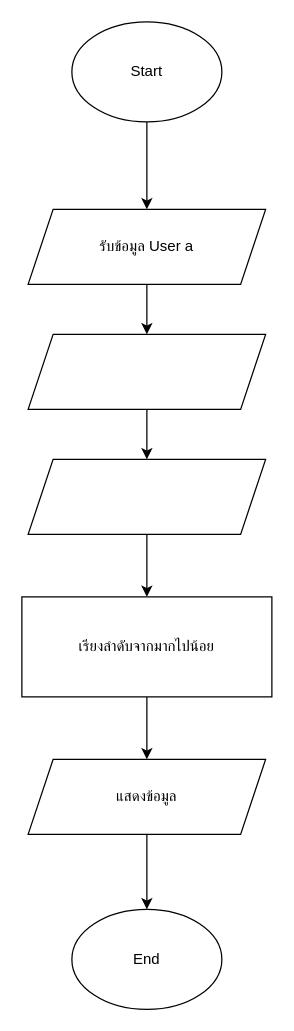
The diagram is 294 pixels wide and 1031 high, and some of its shapes have lost their labels. The shapes that lost their labels are listed below. From the top down, each one's centre as x and y in pixels, then its label:
(146,371): รับข้อมูล User b
(146,496): รับข้อมูล User c
